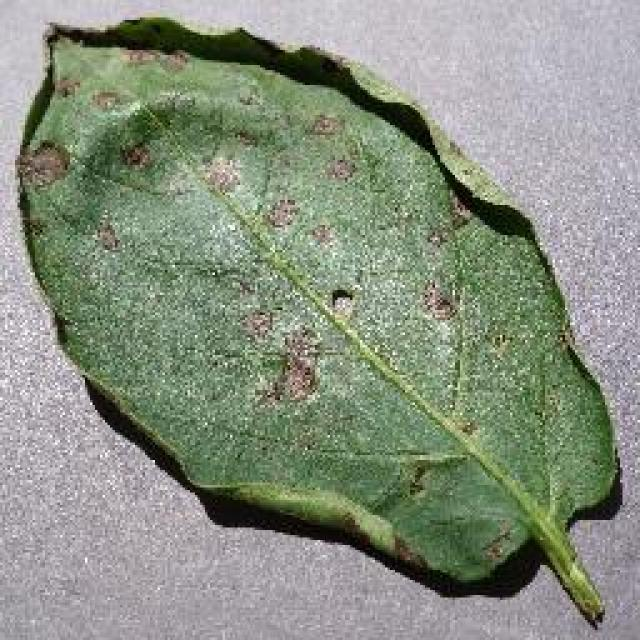early_blight: (10, 12, 622, 628)
